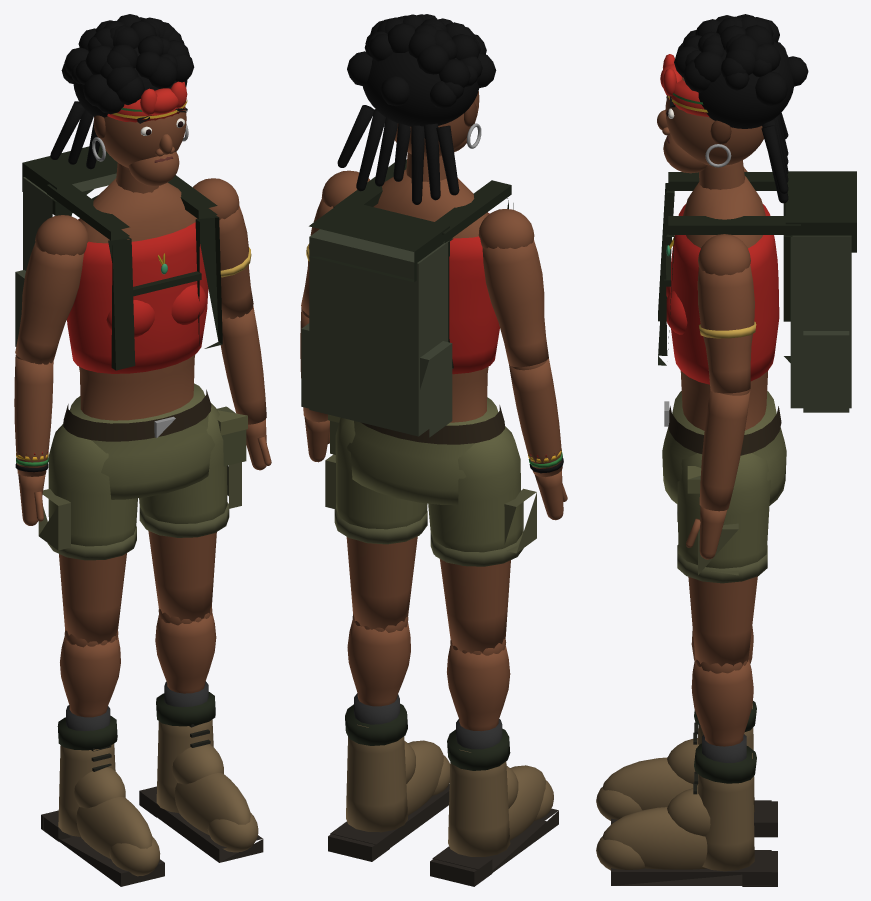
Rendered from female_trinidadian_build.glb.
3 renders of one model, left to right at view 1: azimuth 30°, elevation 25°; view 2: azimuth 150°, elevation 25°; view 3: azimuth 270°, elevation 25°, orthographic. The views are drawn at different scales.
Parts seen in each view (by area): view 1: crop_top, torso_skin, shorts_waist, shorts_leg_R, upper_arm_R, thigh_L, thigh_R, forearm_R, shorts_leg_L, shin_R, forearm_L, shin_L (+46 smaller); view 2: backpack_body, shorts_leg_R, shorts_waist, upper_arm_R, crop_top, thigh_R, boot_shaft_L, boot_shaft_R, thigh_L, torso_skin, backpack_flap, shin_R (+42 smaller); view 3: backpack_body, crop_top, shorts_leg_L, upper_arm_L, thigh_L, torso_skin, backpack_flap, forearm_L, boot_shaft_L, boot_foot_L, shin_L, backpack_pocket_L (+31 smaller).
Boxes of the visible parts, left/top/right/bottom form: crop_top: left=67, top=219, right=208, bottom=373; torso_skin: left=79, top=178, right=197, bottom=420; shorts_waist: left=69, top=383, right=215, bottom=499; shorts_leg_R: left=48, top=424, right=137, bottom=546; upper_arm_R: left=15, top=243, right=83, bottom=364; thigh_L: left=148, top=530, right=216, bottom=621; thigh_R: left=59, top=553, right=126, bottom=643; forearm_R: left=14, top=355, right=53, bottom=476; shorts_leg_L: left=139, top=403, right=227, bottom=536; shin_R: left=60, top=635, right=120, bottom=717; forearm_L: left=220, top=306, right=266, bottom=424; shin_L: left=155, top=612, right=216, bottom=693; backpack_body: left=309, top=229, right=448, bottom=436; shorts_leg_R: left=428, top=426, right=521, bottom=563; shorts_waist: left=347, top=397, right=498, bottom=505; upper_arm_R: left=482, top=239, right=548, bottom=367; crop_top: left=449, top=213, right=499, bottom=374; thigh_R: left=440, top=559, right=510, bottom=653; boot_shaft_L: left=346, top=724, right=407, bottom=832; boot_shaft_R: left=448, top=749, right=510, bottom=856; thigh_L: left=346, top=536, right=417, bottom=629; torso_skin: left=373, top=169, right=488, bottom=422; backpack_flap: left=309, top=200, right=449, bottom=282; shin_R: left=447, top=644, right=510, bottom=731; backpack_body: left=790, top=235, right=851, bottom=408; crop_top: left=670, top=204, right=779, bottom=384; shorts_leg_L: left=677, top=453, right=770, bottom=568; upper_arm_L: left=697, top=264, right=754, bottom=393; thigh_L: left=688, top=576, right=757, bottom=666; torso_skin: left=680, top=176, right=767, bottom=430; backpack_flap: left=785, top=171, right=856, bottom=252; forearm_L: left=699, top=389, right=750, bottom=511; boot_shaft_L: left=698, top=753, right=754, bottom=871; boot_foot_L: left=602, top=807, right=707, bottom=869; shin_L: left=691, top=660, right=753, bottom=746; backpack_pocket_L: left=803, top=331, right=849, bottom=412.
Size of the model in its own units: 0.5464 by 1.7 by 0.4845.
